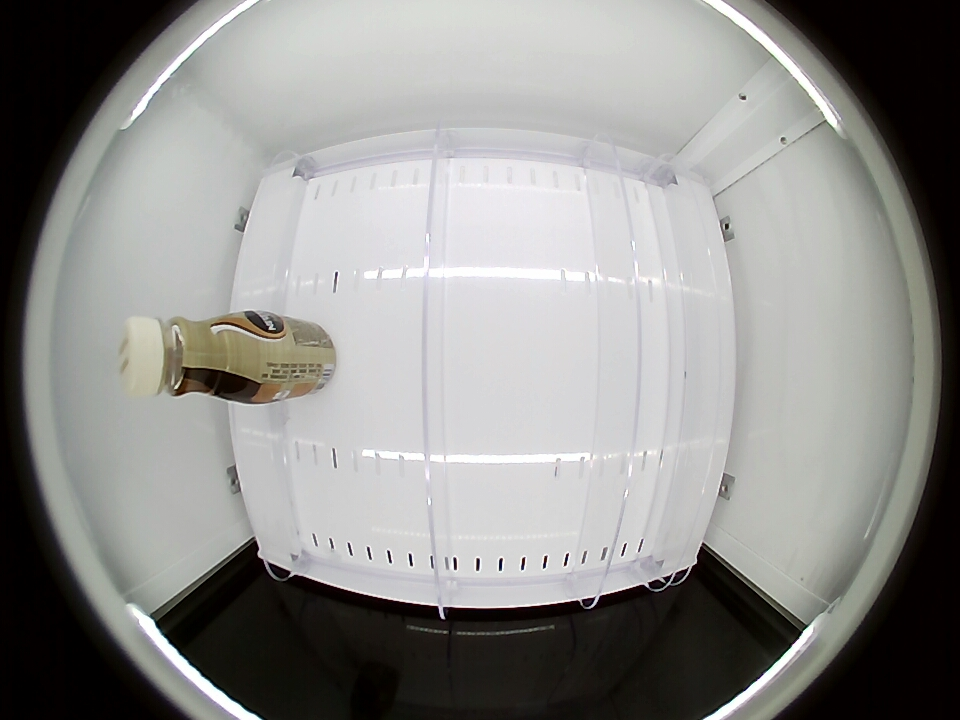kafei: (119, 313, 264, 402)
